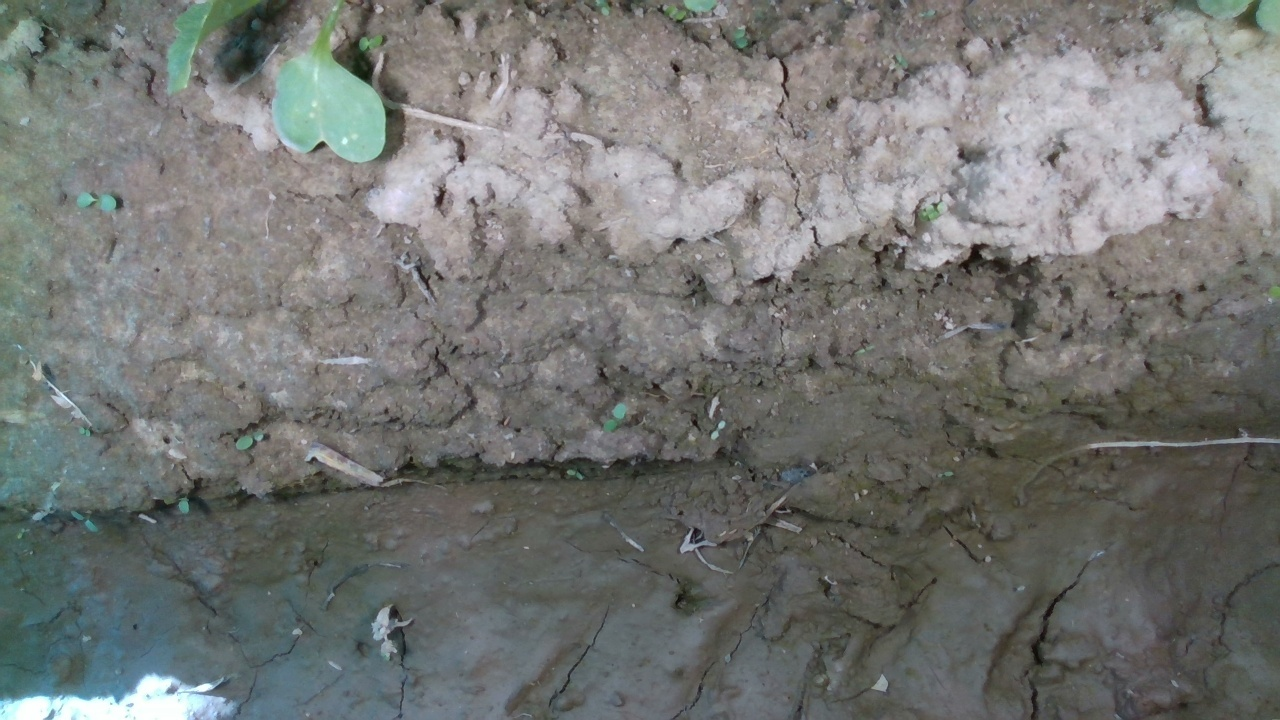weed: (225, 429, 275, 452)
